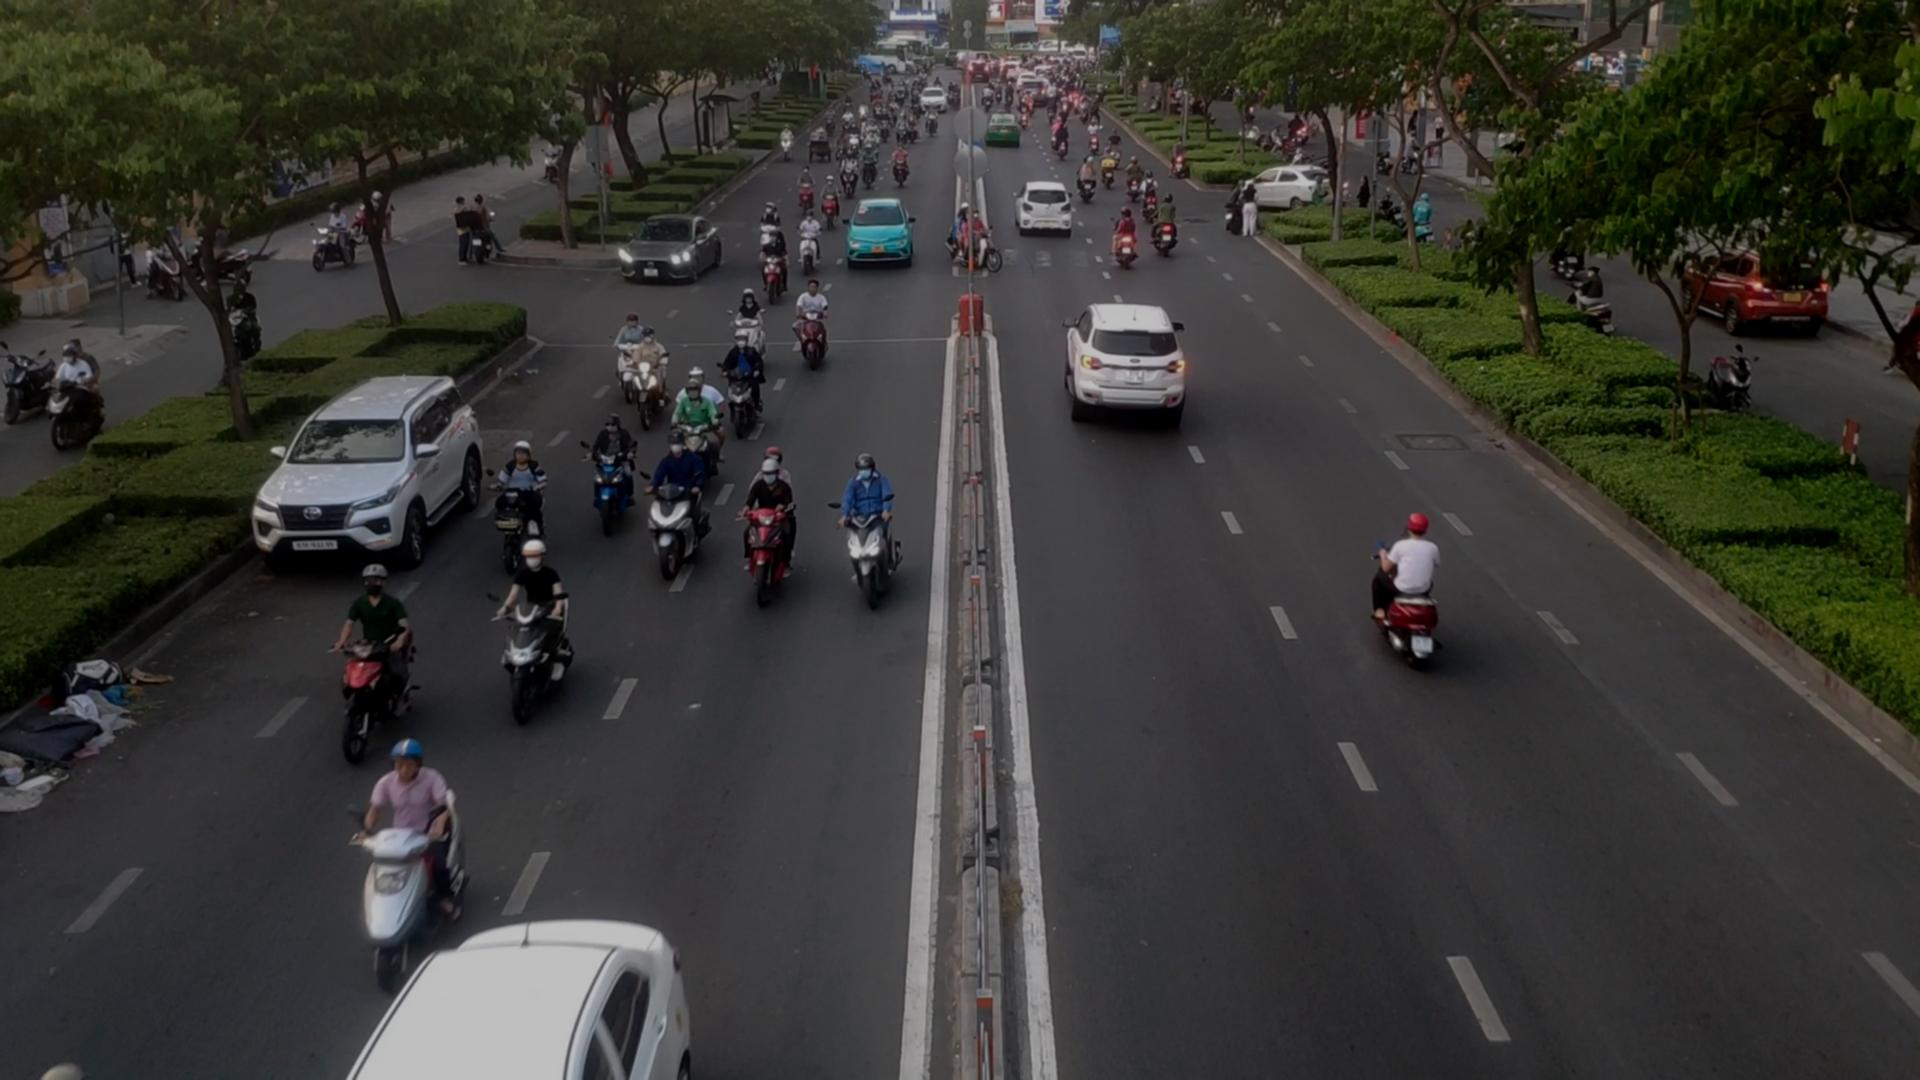car: (255, 376, 495, 570), (1064, 306, 1187, 413), (615, 218, 724, 287), (843, 194, 915, 269), (1017, 183, 1076, 237)
motorbike: (340, 731, 485, 967), (316, 568, 427, 757), (1331, 516, 1443, 687), (495, 546, 579, 711), (844, 458, 905, 617), (641, 435, 695, 587), (480, 442, 546, 559), (750, 448, 807, 578), (582, 407, 637, 537), (936, 194, 1000, 284), (673, 375, 723, 487), (713, 342, 770, 439), (630, 324, 684, 421), (597, 285, 645, 390), (791, 285, 839, 375), (721, 287, 775, 361), (1110, 210, 1145, 280), (1151, 193, 1185, 261), (756, 194, 790, 255), (762, 237, 791, 302), (802, 219, 827, 282), (793, 164, 820, 214), (818, 181, 845, 220), (887, 146, 913, 190), (1145, 167, 1162, 220), (839, 152, 858, 191)
